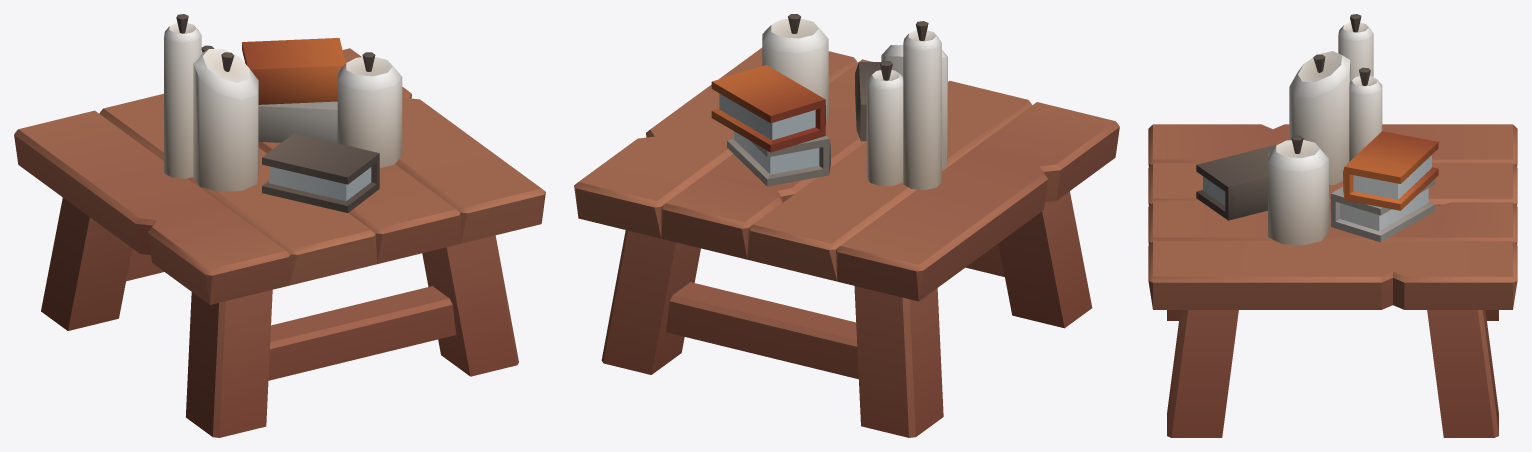
File: table_medium_decorated_B.glb
3 renders of one model, left to right at view 1: azimuth 30°, elevation 25°; view 2: azimuth 150°, elevation 25°; view 3: azimuth 270°, elevation 25°, orthographic. The views are drawn at different scales.
Visible parts, largest first — view 1: table_medium_decorated_B; view 2: table_medium_decorated_B; view 3: table_medium_decorated_B.
Boxes of the visible parts, box(x1,y1,x2,y2) form: table_medium_decorated_B: box(14, 14, 545, 437); table_medium_decorated_B: box(574, 14, 1119, 437); table_medium_decorated_B: box(1148, 14, 1517, 437).
Size of the model in its own units: 2 by 1.87 by 2.
Materials: 1 (1 with a texture image).
